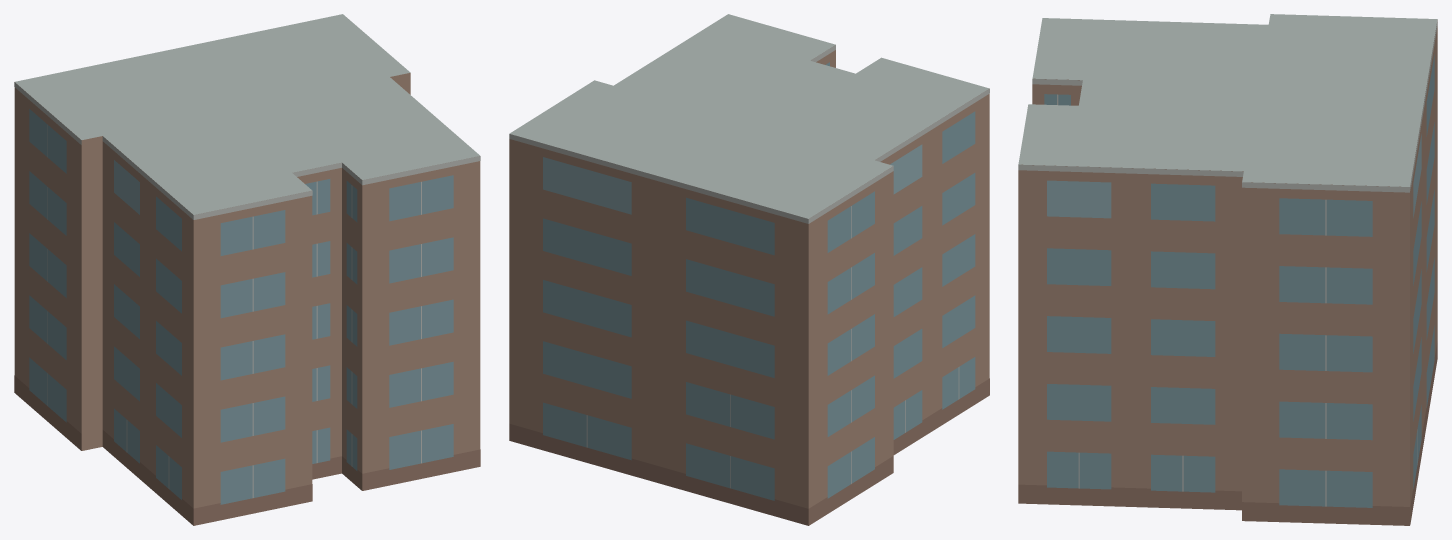
Rendered from survey-upis-32750275.glb.
The picture shows the model from 3 angles, left to right: view 1: azimuth 30°, elevation 25°; view 2: azimuth 150°, elevation 25°; view 3: azimuth 270°, elevation 25°; orthographic projection. The views are drawn at different scales.
Parts seen in each view (by area): view 1: survey-upis-32750275.tmp; view 2: survey-upis-32750275.tmp; view 3: survey-upis-32750275.tmp.
Part boxes in pixels (x1=…): survey-upis-32750275.tmp: x1=14, y1=14, x2=480, y2=525; survey-upis-32750275.tmp: x1=509, y1=14, x2=989, y2=525; survey-upis-32750275.tmp: x1=1018, y1=14, x2=1437, y2=525.
Bounding box in the file's own units: 16.22 × 14.8 × 16.61.
